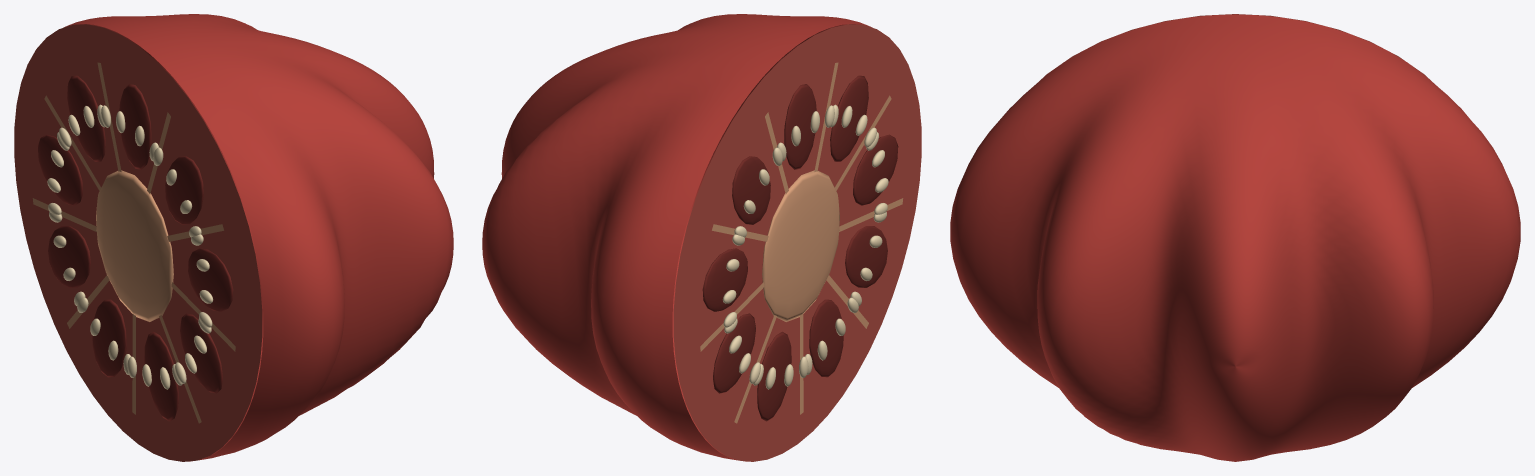
Rendered from event_giant_half.glb.
3 renders of one model, left to right at view 1: azimuth 30°, elevation 25°; view 2: azimuth 150°, elevation 25°; view 3: azimuth 270°, elevation 25°, orthographic. The views are drawn at different scales.
Parts seen in each view (by area): view 1: Giant Giant ribbed oxblood skin, Giant Giant moist vermilion flesh, Giant Nine deep crimson chambers, Giant Broad peach pith and septa, Giant Large ivory heirloom seeds; view 2: Giant Giant ribbed oxblood skin, Giant Giant moist vermilion flesh, Giant Nine deep crimson chambers, Giant Broad peach pith and septa, Giant Large ivory heirloom seeds; view 3: Giant Giant ribbed oxblood skin.
Boxes of the visible parts, <box> form: Giant Giant ribbed oxblood skin: <box>63,14,453,461</box>; Giant Giant moist vermilion flesh: <box>14,24,262,461</box>; Giant Nine deep crimson chambers: <box>37,75,233,421</box>; Giant Broad peach pith and septa: <box>32,62,235,423</box>; Giant Large ivory heirloom seeds: <box>47,104,213,389</box>; Giant Giant ribbed oxblood skin: <box>482,14,872,461</box>; Giant Giant moist vermilion flesh: <box>673,24,921,461</box>; Giant Nine deep crimson chambers: <box>702,75,898,421</box>; Giant Broad peach pith and septa: <box>700,62,903,423</box>; Giant Large ivory heirloom seeds: <box>722,104,888,389</box>; Giant Giant ribbed oxblood skin: <box>950,14,1520,461</box>.
Bounding box in the file's own units: 0.9916 × 1.24 × 1.56.
